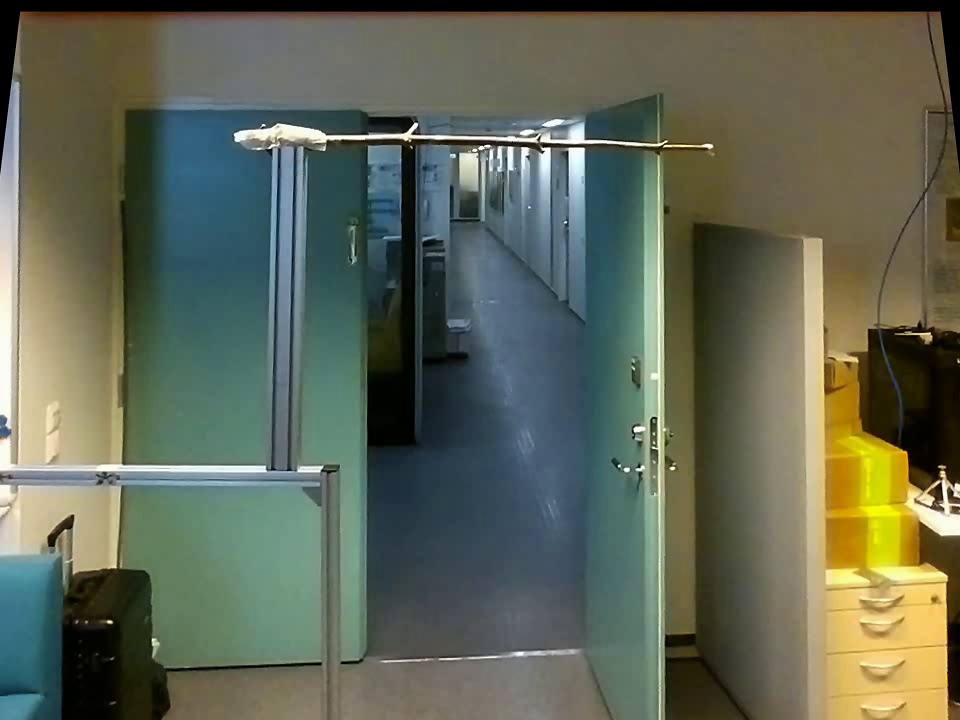aluminum_frame: (258, 150, 310, 466), (0, 454, 325, 500), (313, 462, 343, 716), (8, 73, 25, 502)
branch: (334, 116, 704, 162)
